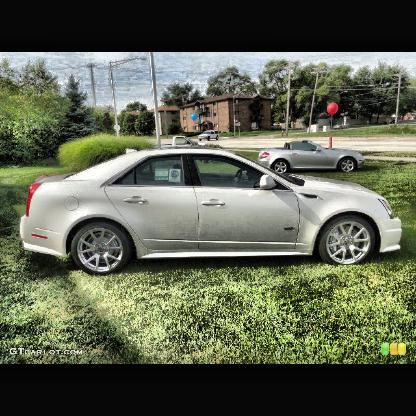Cadillac CTS-V Sedan 2012: (20, 151, 403, 278)
